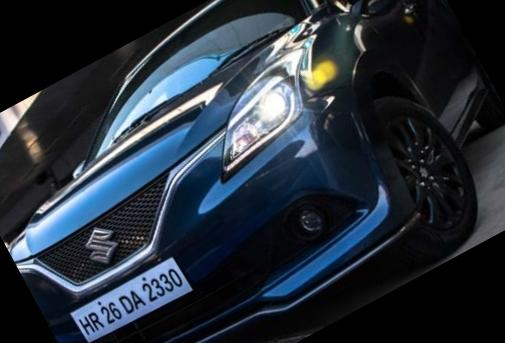plate: (68, 252, 199, 343)
